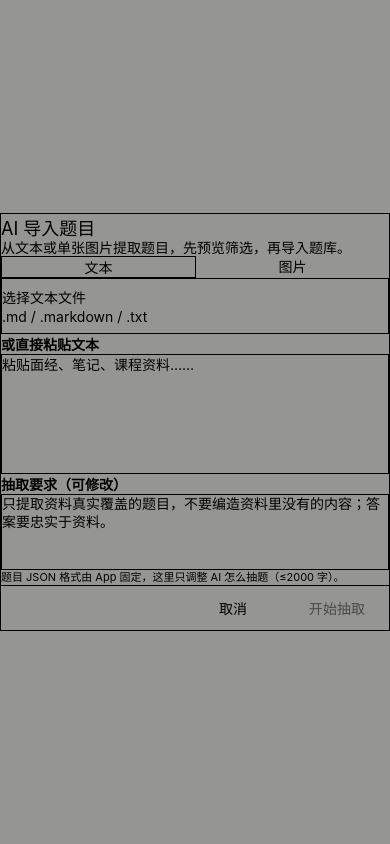
Scenario: 不支持/超限的图片给出错误且不上传
This screenshot has width=390, height=844.
Click the tab with aria-label "图片来源" at (292, 266), box [278,258,306,275]
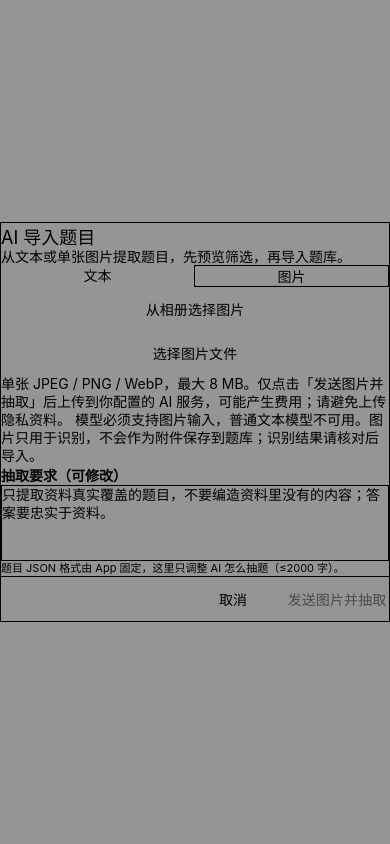
Click the button "选择图片文件" at (195, 353), box [1,331,389,375]
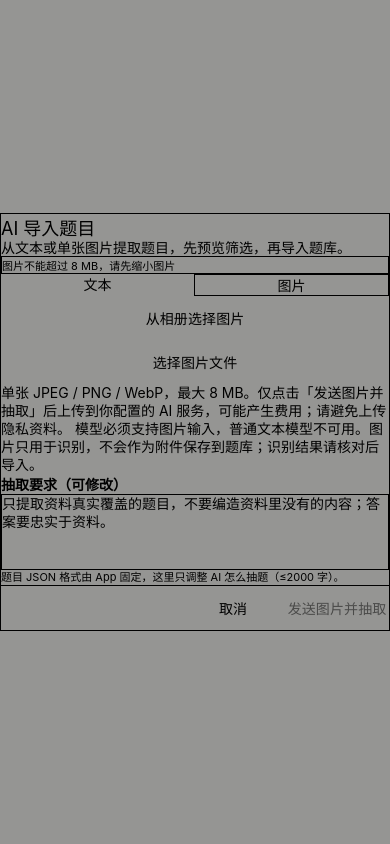
Result: the text "图片不能超过 8 MB，请先缩小图片" is shown at [2,259,175,273]
